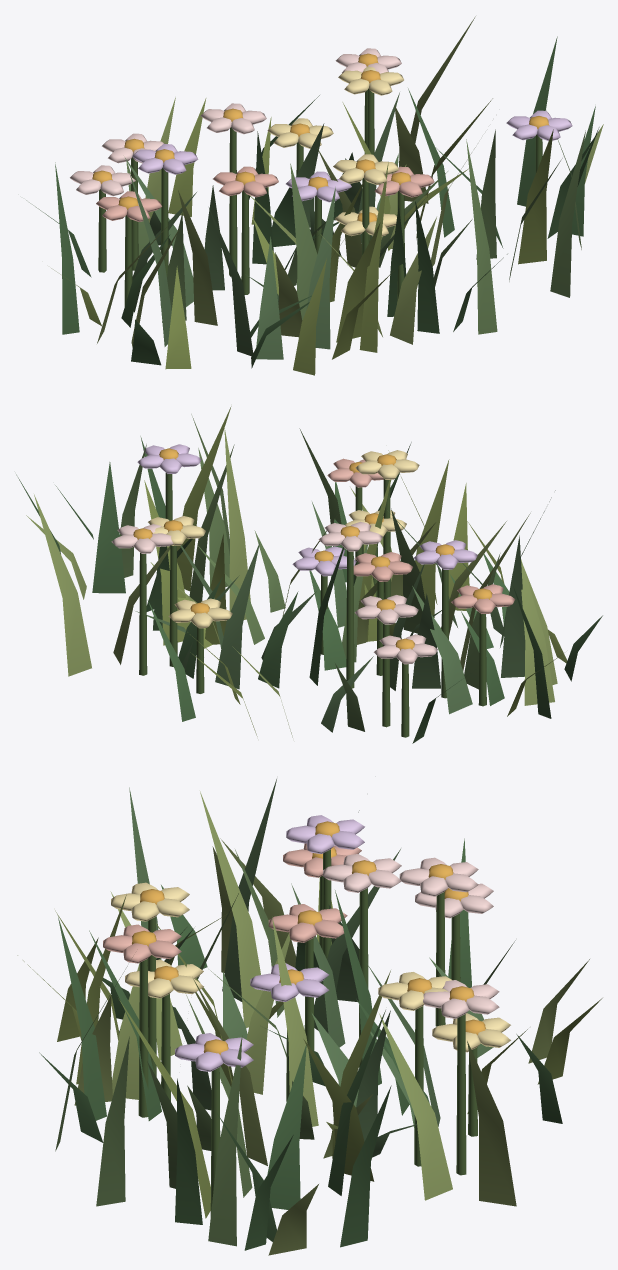
File: garden-bed.glb
3 renders of one model, top to bottom at view 1: azimuth 30°, elevation 25°; view 2: azimuth 150°, elevation 25°; view 3: azimuth 270°, elevation 25°, orthographic. The views are drawn at different scales.
Parts seen in each view (by area): view 1: 花草丛; view 2: 花草丛; view 3: 花草丛.
Boxes of the visible parts, x1,y1,x2,y2 form: 花草丛: [26, 16, 603, 375]; 花草丛: [16, 406, 602, 743]; 花草丛: [17, 779, 602, 1255].
Size of the model in its own units: 2.06 by 0.5979 by 1.51.
